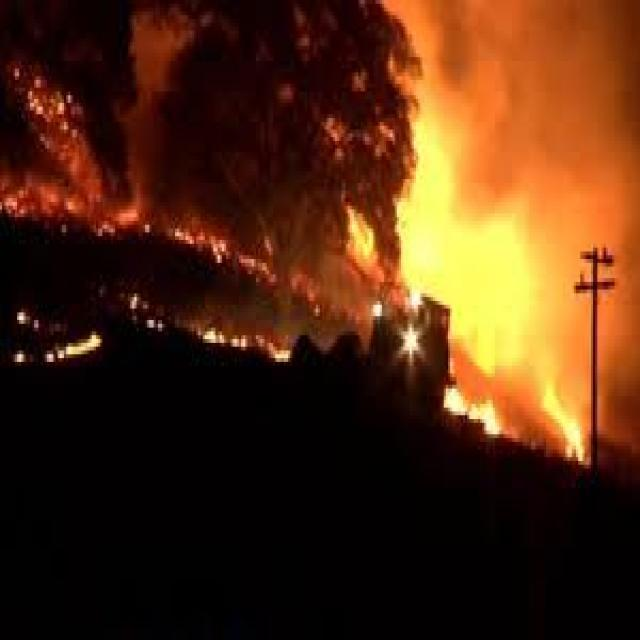Fire: (329, 154, 582, 379), (446, 376, 598, 476), (176, 218, 324, 306), (5, 65, 93, 177), (5, 178, 136, 240), (6, 308, 114, 368), (200, 319, 300, 372)
Smoke: (404, 11, 640, 254)
